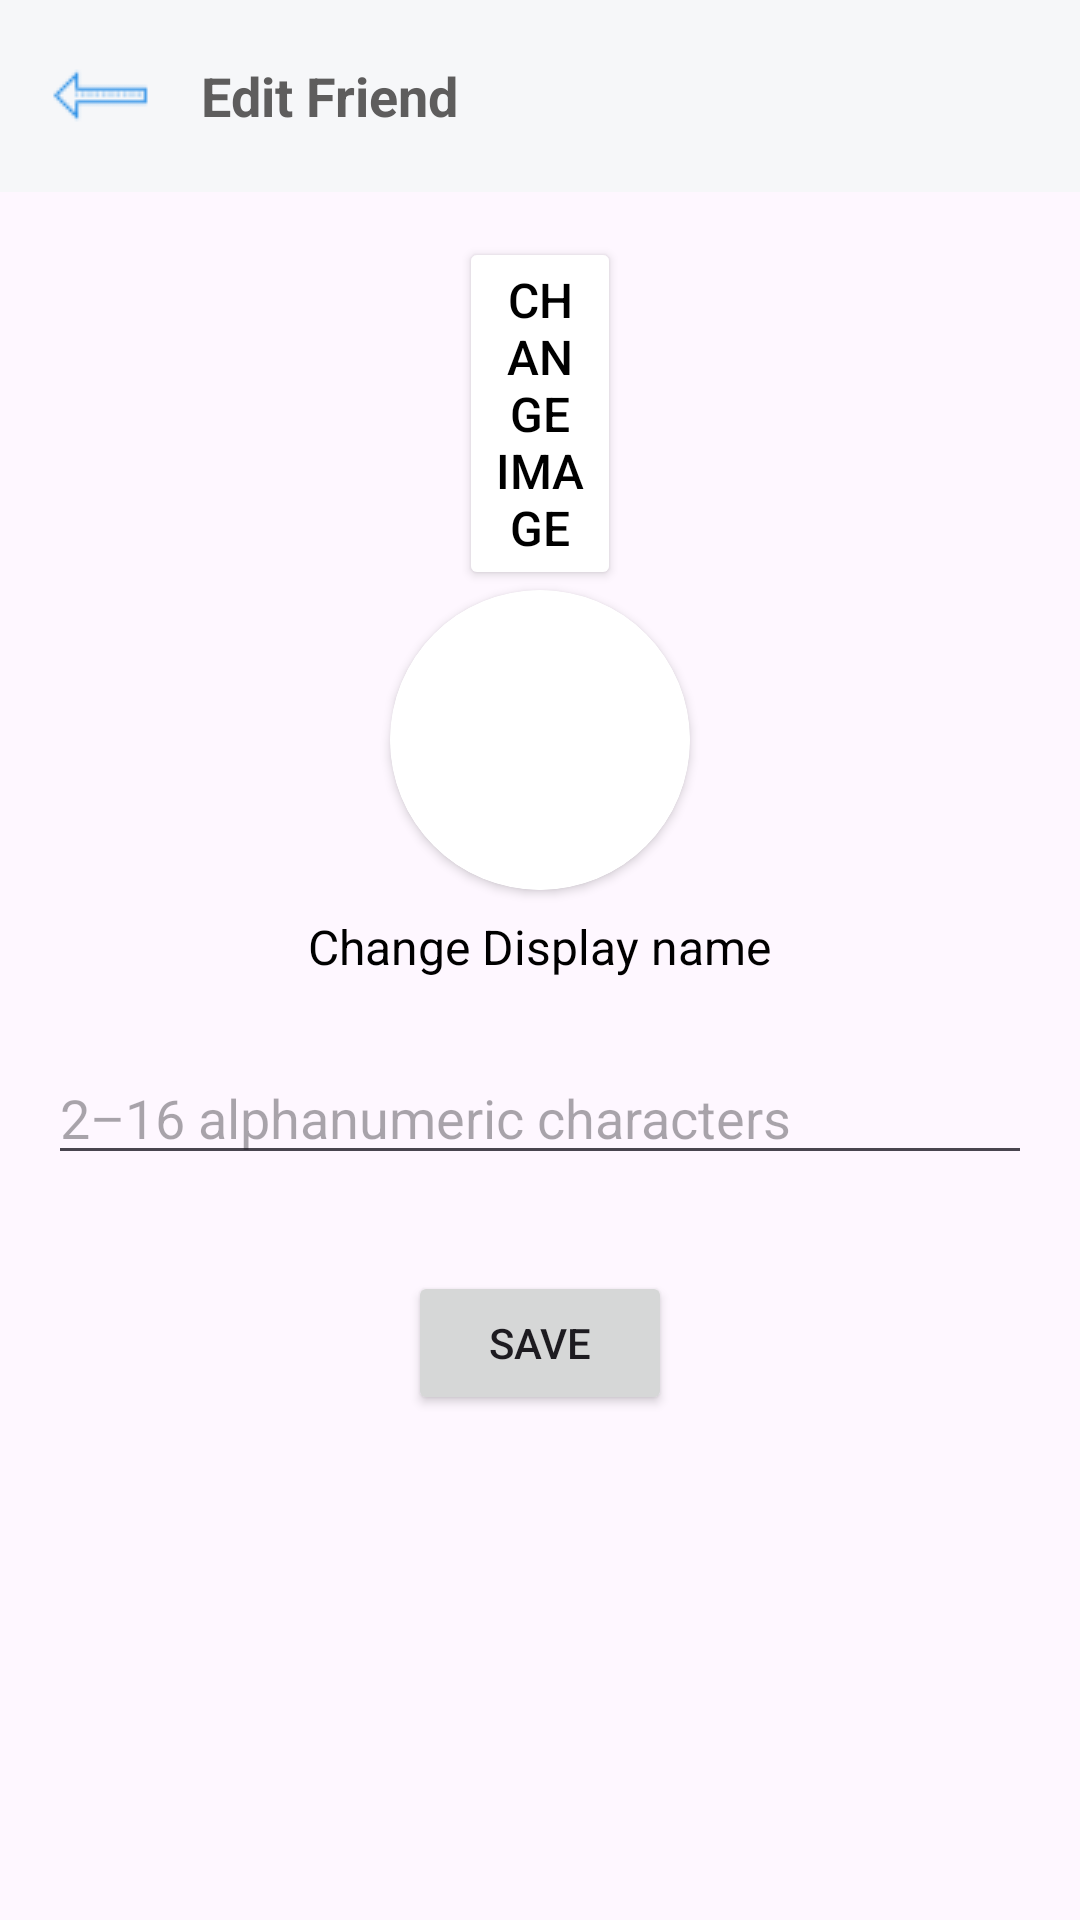

Screen size 1080px x 1920px. Icon name, then its box in pixels as (x1, y1, x2, y2):
arrow: (53, 71, 148, 120)
